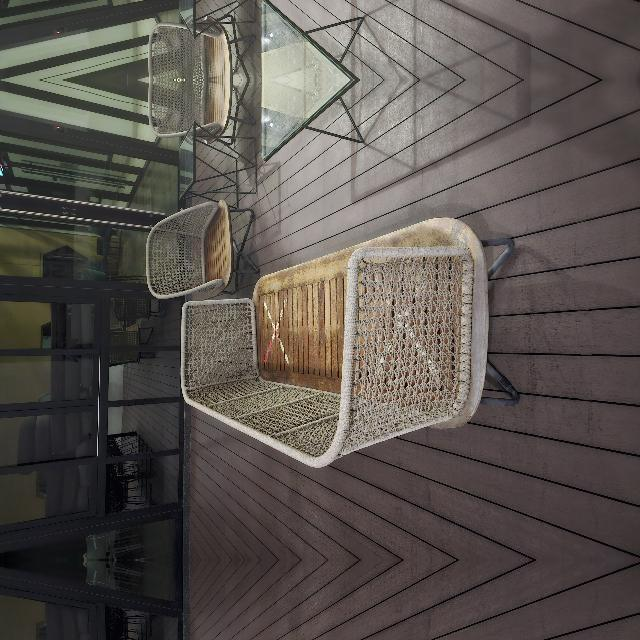obstacle: (87, 251, 356, 624), (86, 496, 355, 640), (258, 224, 362, 342), (396, 338, 478, 448), (413, 226, 479, 338), (356, 256, 440, 340)
